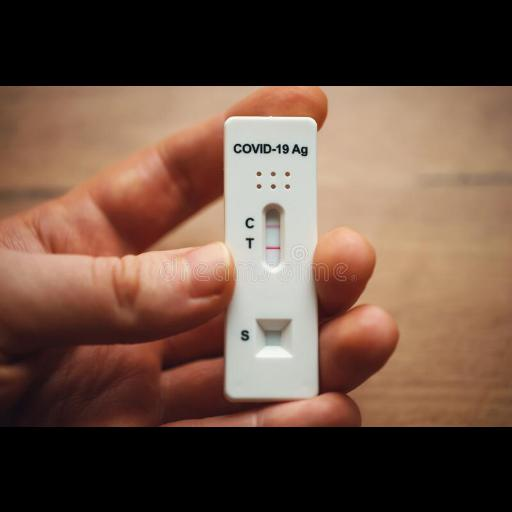Pos: (223, 116, 319, 396)
